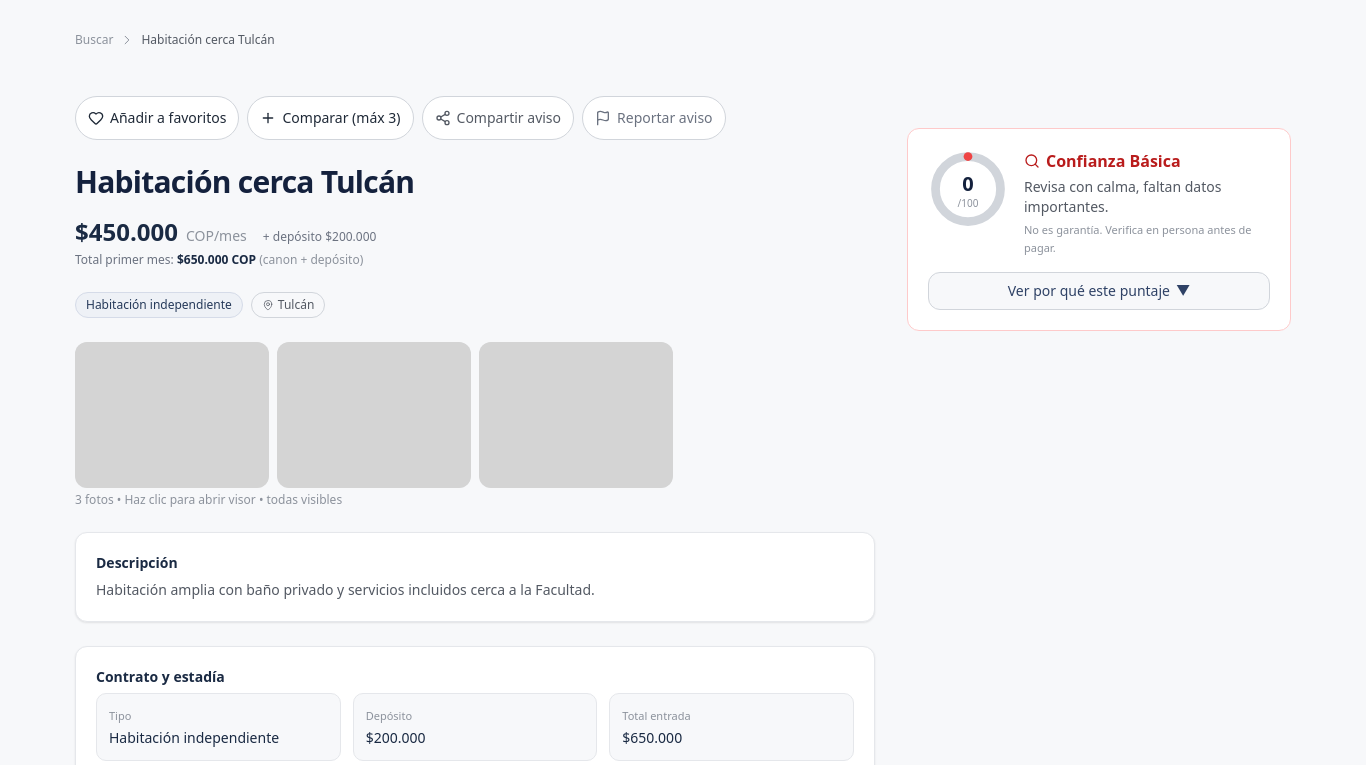
it: Detalle ramas sin cubrir (contacto, errores, fallbacks) › favorito alterna el toast con enlace a Favoritos
The image size is (1366, 765).
Step 1. Click the button "Añadir a favoritos" → (157, 118), box [75,96,240,140]
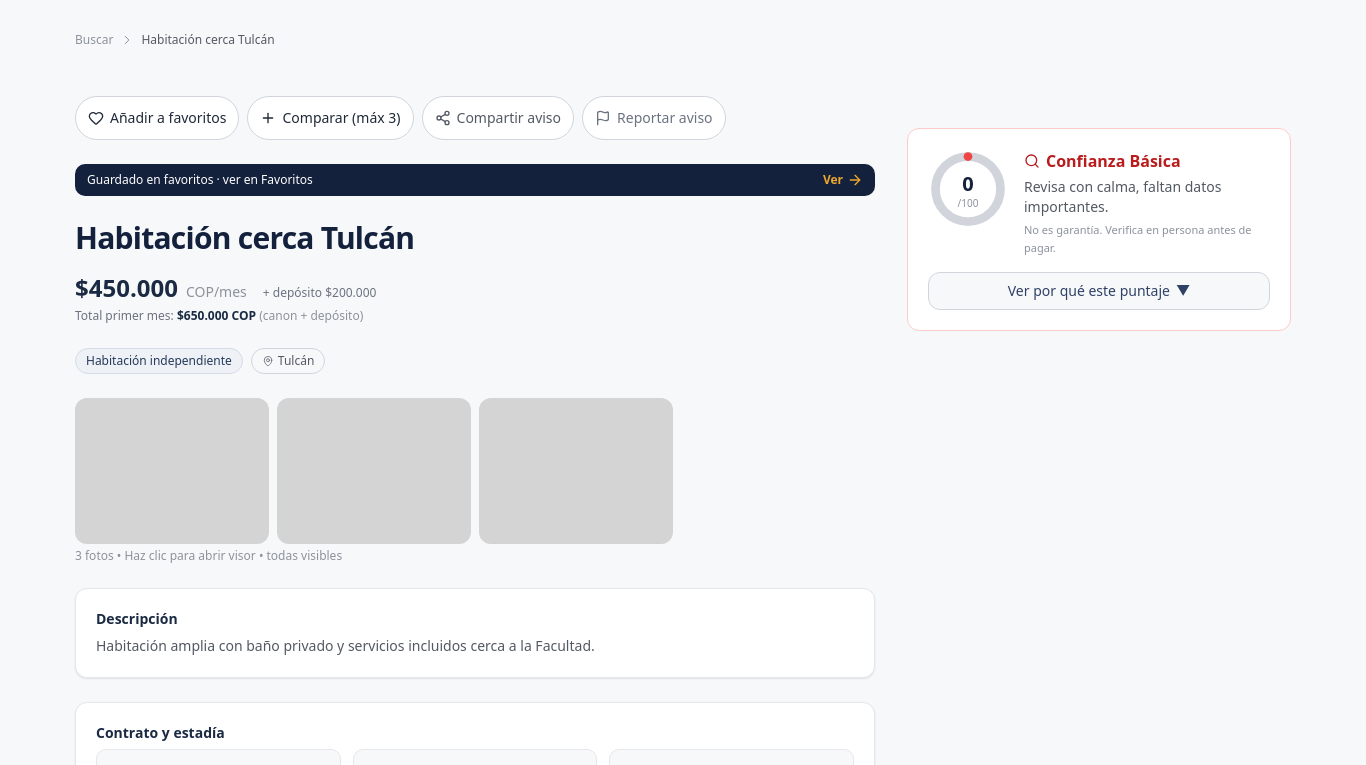
Check: the text "Guardado en favoritos · ver en Favoritos" is shown, box [87,172,313,188]
